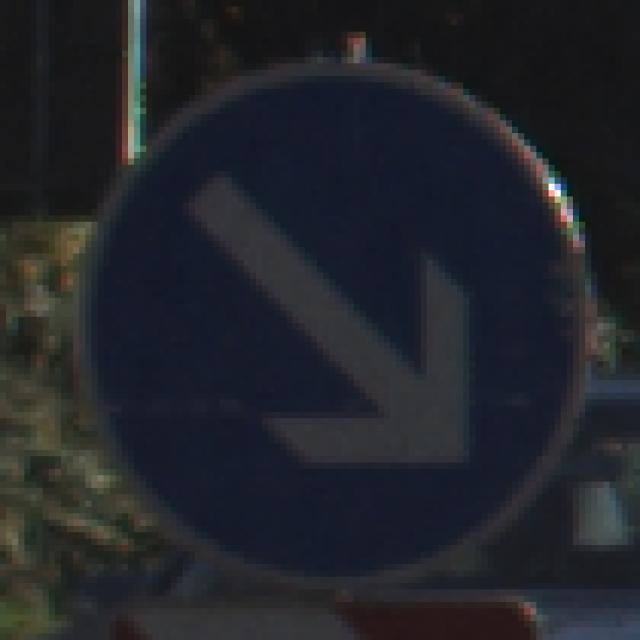compulsary keep right: (75, 59, 592, 581)
